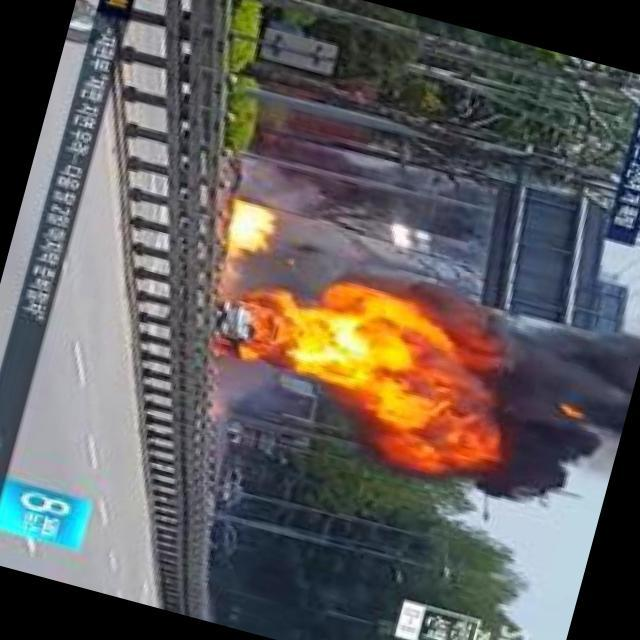Fire: (205, 261, 473, 430), (224, 197, 275, 255)
